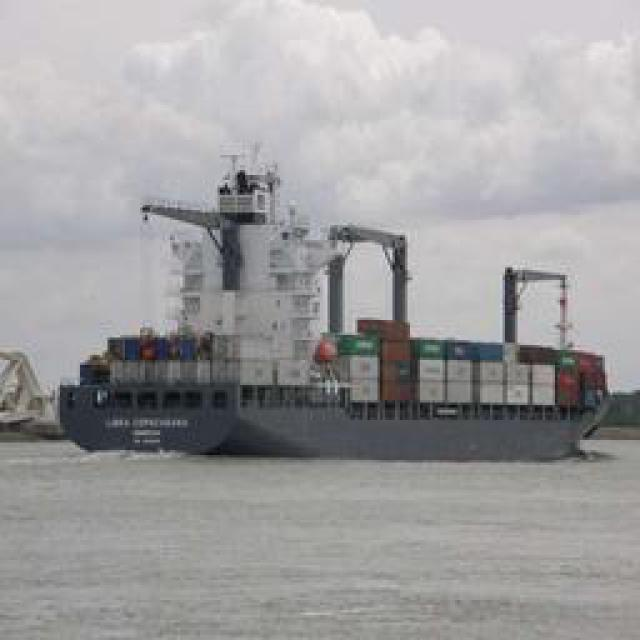Ship: (48, 130, 611, 474)
